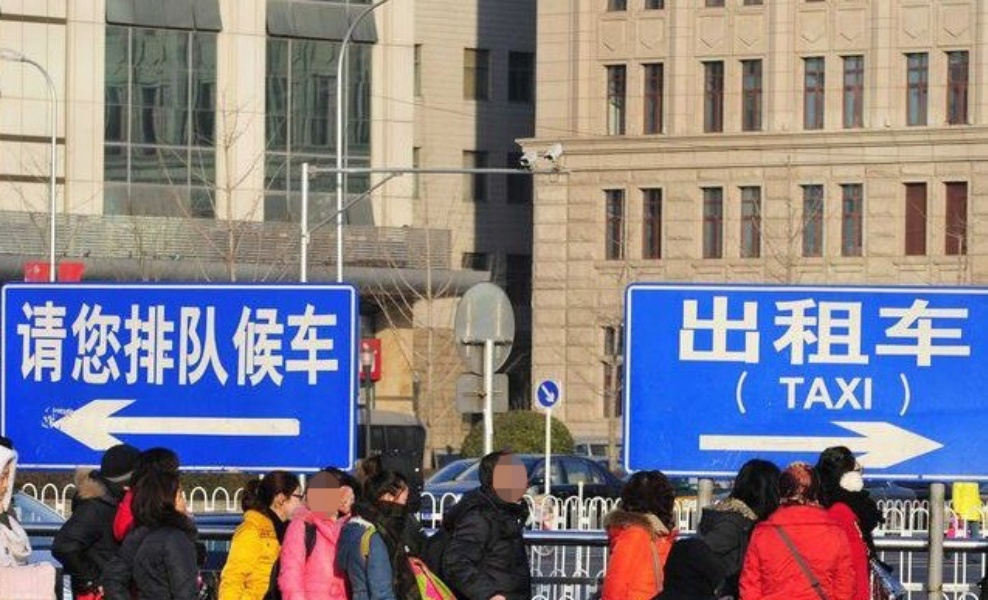text: (17, 297, 32, 387), (33, 297, 48, 387), (49, 297, 64, 387), (65, 297, 80, 387), (81, 297, 96, 387), (97, 297, 112, 387), (113, 297, 128, 387), (129, 297, 144, 387), (145, 297, 160, 387), (161, 297, 176, 387), (177, 297, 192, 387), (193, 297, 208, 387), (209, 297, 224, 387), (225, 297, 240, 387), (241, 297, 256, 387), (257, 297, 272, 387), (273, 297, 288, 387), (289, 297, 304, 387), (305, 297, 320, 387), (321, 297, 336, 387), (689, 294, 704, 368), (705, 294, 720, 368), (721, 294, 736, 368), (737, 294, 752, 368), (753, 294, 768, 368), (769, 294, 784, 368), (785, 294, 800, 368), (801, 294, 816, 368), (817, 294, 832, 368), (833, 294, 848, 368), (849, 294, 864, 368), (865, 294, 880, 368), (881, 294, 896, 368), (897, 294, 912, 368), (913, 294, 928, 368), (929, 294, 944, 368), (945, 294, 960, 368), (677, 294, 688, 368), (897, 369, 913, 419), (737, 369, 752, 419), (753, 369, 768, 419), (769, 369, 784, 419), (785, 369, 800, 419), (801, 369, 816, 419), (817, 369, 832, 419), (833, 369, 848, 419), (849, 369, 864, 419), (865, 369, 880, 419), (881, 369, 896, 419), (961, 294, 970, 368), (337, 297, 342, 387), (734, 369, 736, 419)
